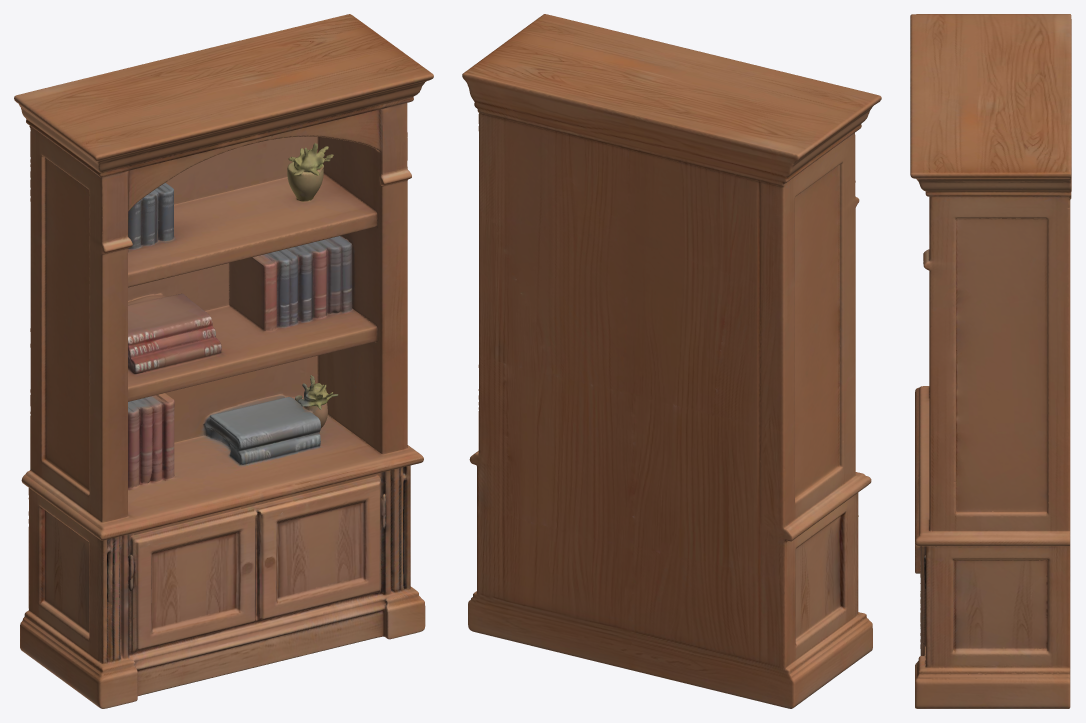
The model's file is detailed_realistic_model_antiquebookshelf_16.glb.
3 views of the same model, side by side, from view 1: azimuth 30°, elevation 25°; view 2: azimuth 150°, elevation 25°; view 3: azimuth 270°, elevation 25° (orthographic). The views are drawn at different scales.
Parts seen in each view (by area): view 1: tripo_node_3dfe0d63-4216-486a-828b-059e172a6057; view 2: tripo_node_3dfe0d63-4216-486a-828b-059e172a6057; view 3: tripo_node_3dfe0d63-4216-486a-828b-059e172a6057.
Boxes of the visible parts, bbox=[...] form: tripo_node_3dfe0d63-4216-486a-828b-059e172a6057: bbox=[14, 14, 433, 708]; tripo_node_3dfe0d63-4216-486a-828b-059e172a6057: bbox=[462, 14, 881, 708]; tripo_node_3dfe0d63-4216-486a-828b-059e172a6057: bbox=[910, 14, 1071, 708].
Bounding box in the file's own units: 0.6355 × 1 × 0.2705.
Materials: 1 (1 with a texture image).
